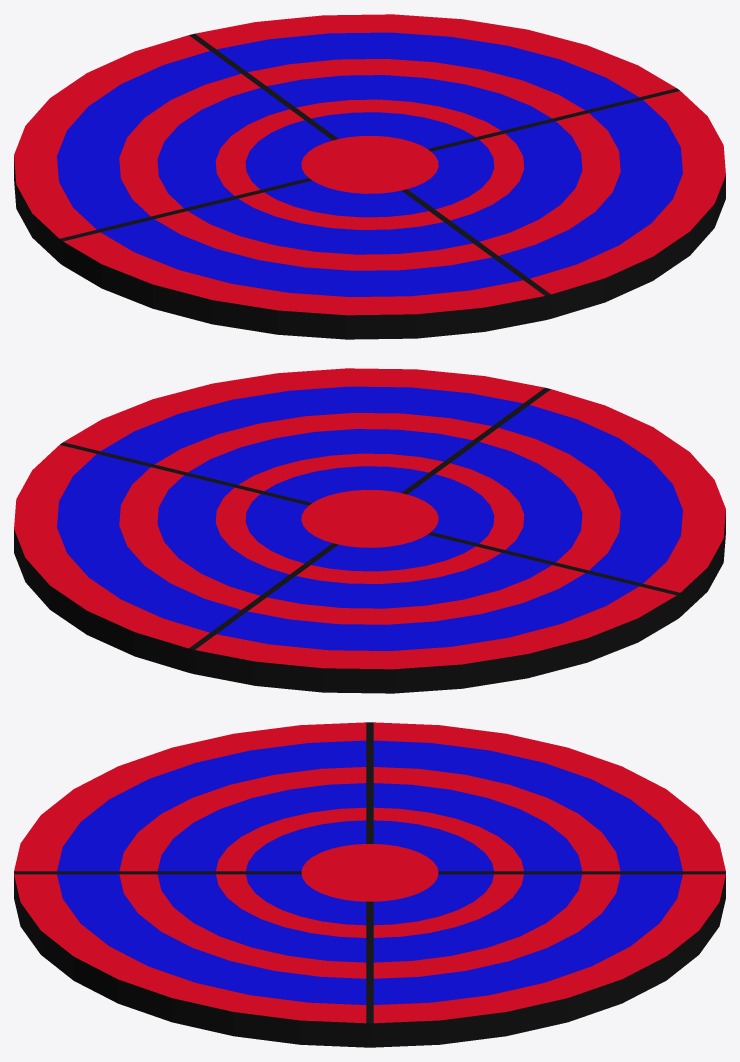
File: diana.fbx
3 views of the same model, one above another, from view 1: azimuth 30°, elevation 25°; view 2: azimuth 150°, elevation 25°; view 3: azimuth 270°, elevation 25° (orthographic).
Visible parts, largest first — view 1: Cylinder.016; view 2: Cylinder.016; view 3: Cylinder.016.
Boxes of the visible parts, x1,y1,x2,y2 form: Cylinder.016: [14, 14, 725, 339]; Cylinder.016: [14, 368, 725, 693]; Cylinder.016: [14, 722, 725, 1047].
Size of the model in its own units: 58.33 by 2.2 by 58.33.
